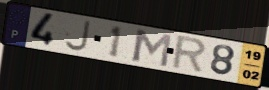1: (109, 25, 124, 59)
4: (28, 11, 59, 50)
8: (209, 44, 236, 77)
J: (63, 19, 93, 53)
M: (131, 27, 174, 69)
R: (169, 34, 209, 76)
